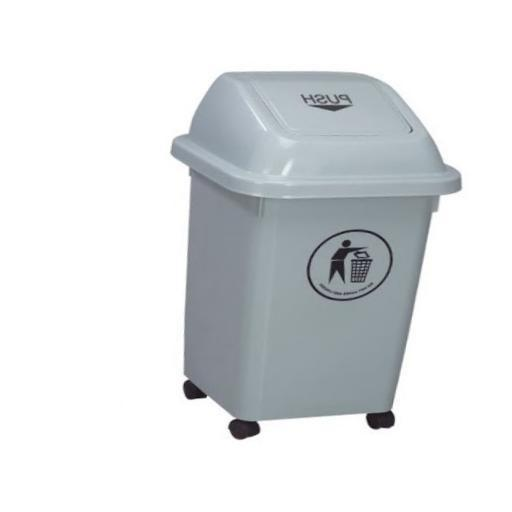Bote de Basura: (160, 67, 458, 438)
